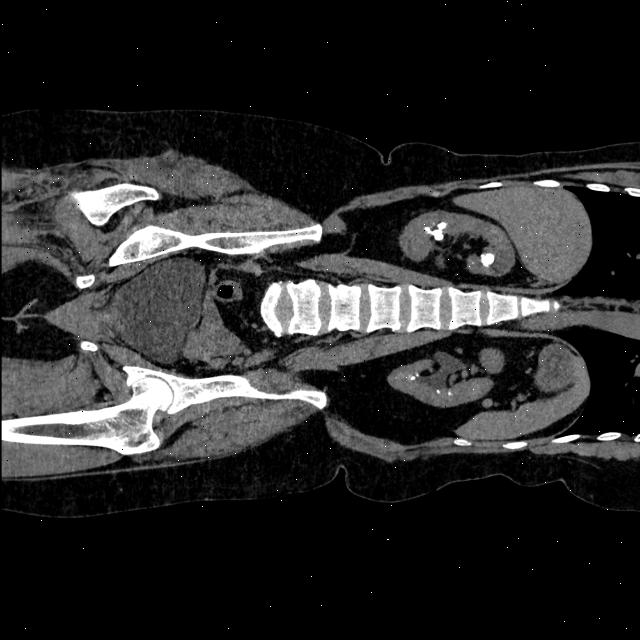kidneystone: (423, 221, 447, 241), (479, 252, 493, 266), (448, 390, 453, 396), (409, 376, 416, 380), (436, 390, 439, 392)
